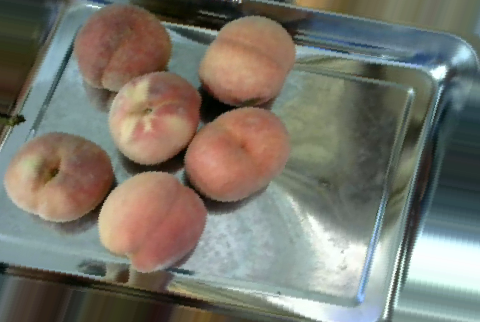Peach: (96, 170, 206, 271), (185, 105, 290, 203), (5, 132, 114, 222), (106, 69, 201, 165), (72, 4, 174, 92), (200, 16, 294, 107)
